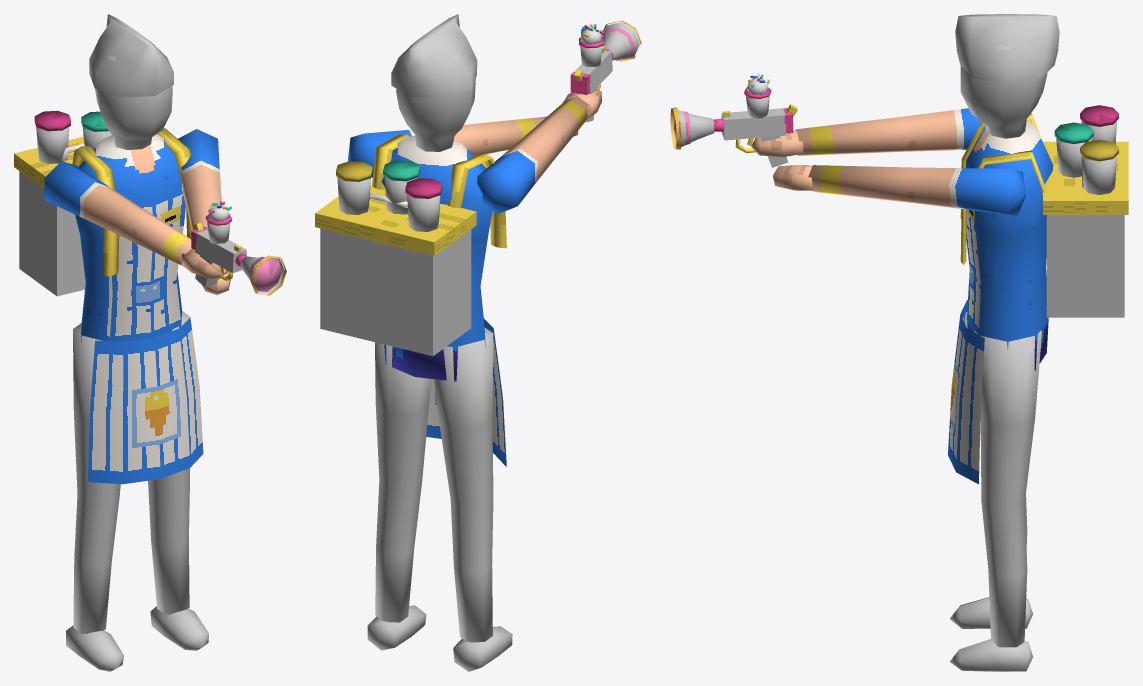
File: Player Blue.fbx
3 renders of one model, left to right at view 1: azimuth 30°, elevation 25°; view 2: azimuth 150°, elevation 25°; view 3: azimuth 270°, elevation 25°, orthographic. The views are drawn at different scales.
Parts seen in each view (by area): view 1: Player Blue apron, Player Blue torso, Player Blue leg R.001, Player Blue arm R arm, Player Blue cooler, Player Blue leg L.001, Player Blue hat, Player Blue head, Player Blue arm L arm, Player Blue shoe L, Player Blue shoe R, Player Blue strap -1 (+9 smaller); view 2: Player Blue cooler, Player Blue leg R.001, Player Blue leg L.001, Player Blue torso, Player Blue arm R arm, Player Blue hat, Player Blue cooler lid, Player Blue head, Player Blue arm L arm, Player Blue apron, Player Blue strap -1, Player Blue shoe R (+10 smaller); view 3: Player Blue leg L.001, Player Blue torso, Player Blue cooler, Player Blue arm L arm, Player Blue hat, Player Blue arm R arm, Player Blue apron, Player Blue head, Player Blue cooler lid, Player Blue shoe L, Player Blue body, Player Blue pint 2 (+9 smaller).
Boxes of the visible parts, x1,y1,x2,y2 form: Player Blue apron: [88, 317, 203, 484]; Player Blue torso: [75, 134, 185, 342]; Player Blue leg R.001: [73, 323, 120, 633]; Player Blue arm R arm: [44, 161, 191, 265]; Player Blue cooler: [19, 171, 85, 296]; Player Blue leg L.001: [148, 311, 190, 614]; Player Blue hat: [89, 14, 173, 97]; Player Blue head: [95, 44, 172, 149]; Player Blue arm L arm: [178, 129, 221, 230]; Player Blue shoe L: [150, 606, 208, 650]; Player Blue shoe R: [66, 625, 123, 671]; Player Blue strap -1: [72, 146, 119, 276]; Player Blue cooler: [320, 228, 471, 356]; Player Blue leg R.001: [434, 327, 493, 642]; Player Blue leg L.001: [375, 342, 431, 622]; Player Blue torso: [372, 135, 492, 381]; Player Blue arm R arm: [477, 96, 588, 214]; Player Blue hat: [391, 14, 477, 98]; Player Blue cooler lid: [315, 185, 476, 256]; Player Blue head: [396, 45, 475, 151]; Player Blue arm L arm: [347, 117, 543, 177]; Player Blue apron: [426, 318, 506, 466]; Player Blue strap -1: [446, 153, 506, 248]; Player Blue shoe R: [453, 626, 512, 671]; Player Blue leg L.001: [973, 330, 1041, 647]; Player Blue torso: [965, 121, 1053, 370]; Player Blue cooler: [1046, 215, 1124, 317]; Player Blue arm L arm: [808, 165, 1025, 215]; Player Blue hat: [955, 14, 1059, 83]; Player Blue arm R arm: [795, 108, 985, 155]; Player Blue apron: [948, 300, 984, 484]; Player Blue head: [960, 45, 1047, 138]; Player Blue cooler lid: [1043, 141, 1128, 214]; Player Blue shoe L: [950, 639, 1032, 671]; Player Blue body: [721, 108, 786, 140]; Player Blue pint 2: [1081, 155, 1117, 194].
Size of the model in its own units: 0.5216 by 1.8 by 1.18.
